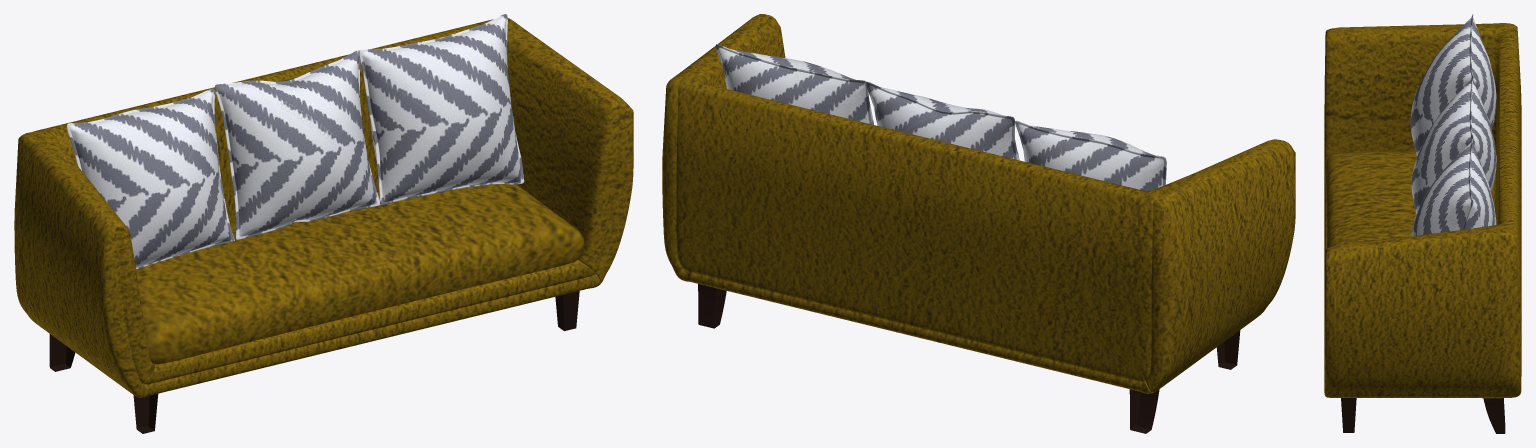
The picture shows the model from 3 angles, left to right: view 1: azimuth 30°, elevation 25°; view 2: azimuth 150°, elevation 25°; view 3: azimuth 270°, elevation 25°; orthographic projection. The views are drawn at different scales.
Visible parts, largest first — view 1: pillow_01_geo, couch, seat, Legs_01_geo; view 2: couch, pillow_01_geo, Legs_01_geo; view 3: couch, pillow_01_geo, seat, Legs_01_geo.
Part boxes in pixels (<box>): pillow_01_geo: <box>67,14,524,269</box>; couch: <box>14,18,633,397</box>; seat: <box>136,184,584,364</box>; Legs_01_geo: <box>49,291,579,433</box>; couch: <box>662,14,1295,393</box>; pillow_01_geo: <box>715,44,1166,191</box>; Legs_01_geo: <box>698,284,1240,433</box>; couch: <box>1324,23,1521,398</box>; pillow_01_geo: <box>1410,14,1496,236</box>; seat: <box>1325,151,1495,248</box>; Legs_01_geo: <box>1341,398,1505,433</box>.
Bounding box in the file's own units: 2.09 × 0.9807 × 0.7535.
4 materials, 3 textured.
